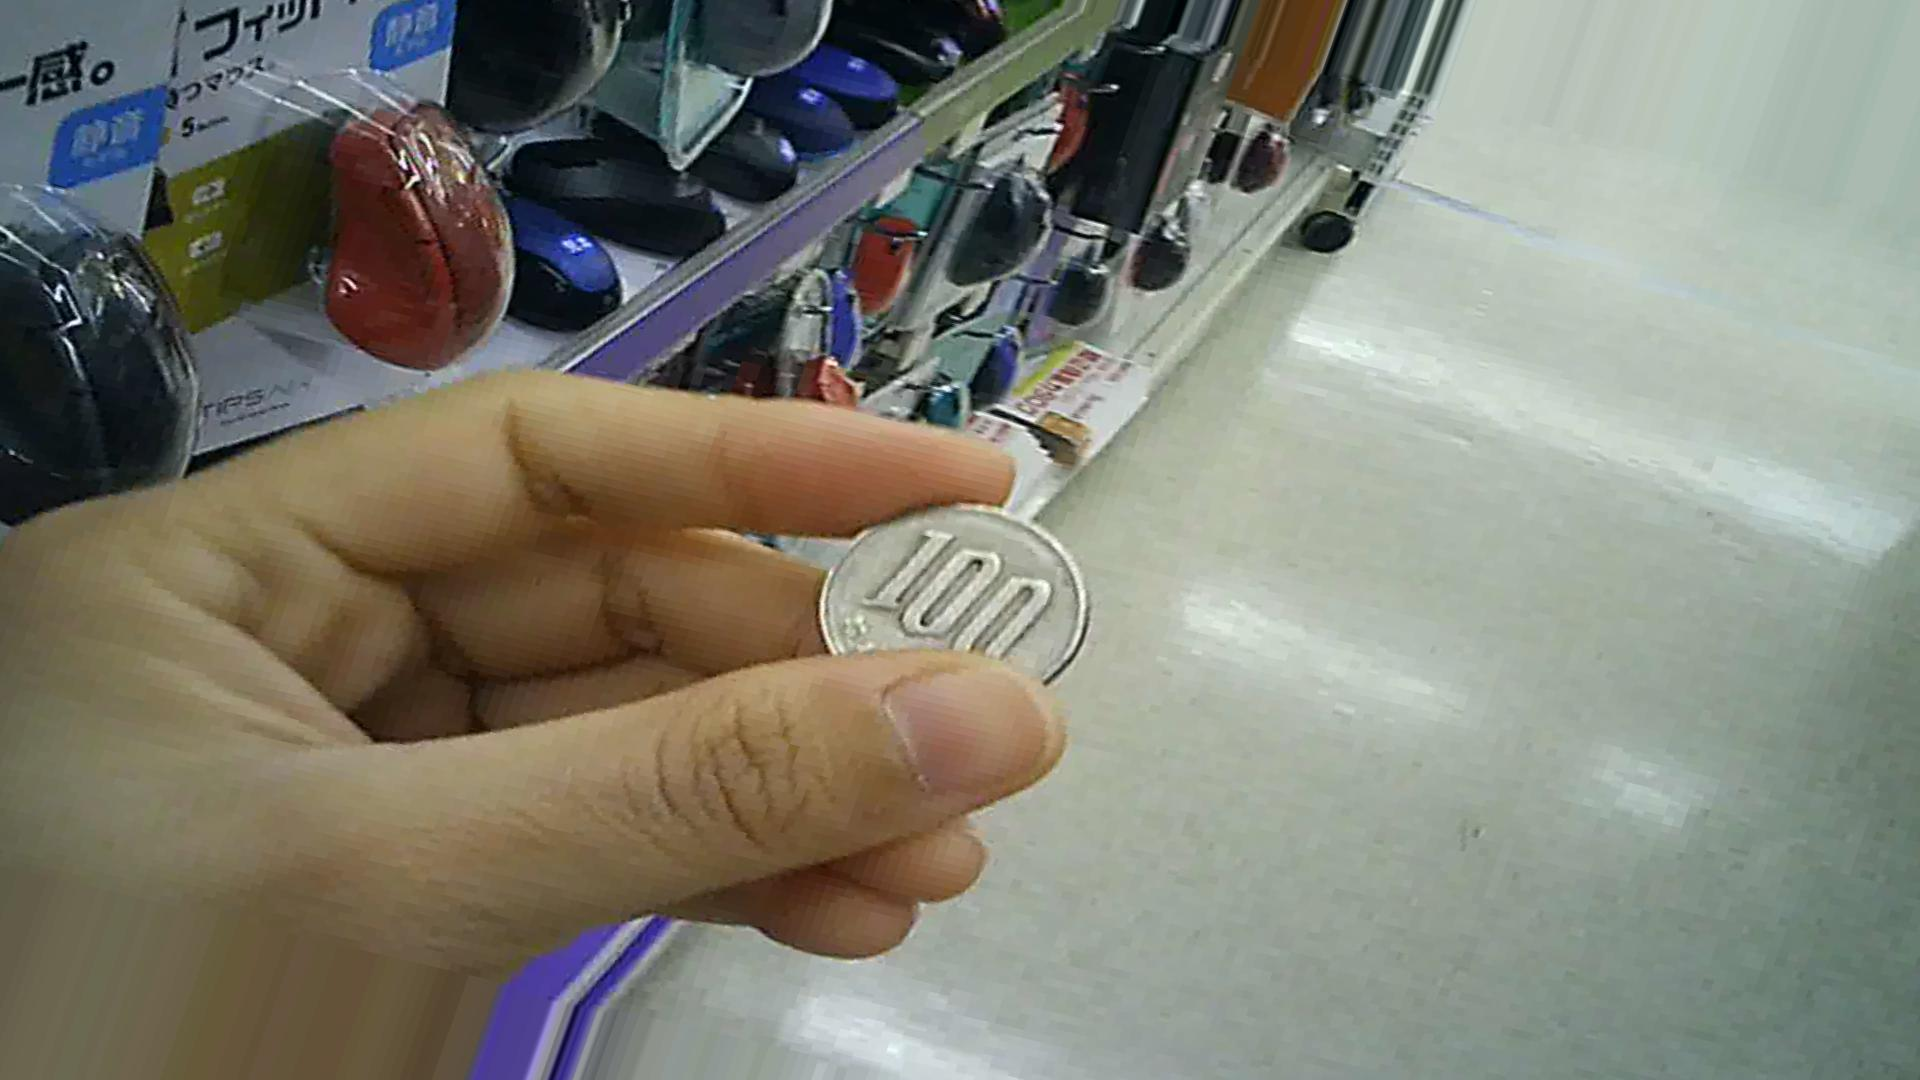100 Yen: (789, 489, 1083, 717)
